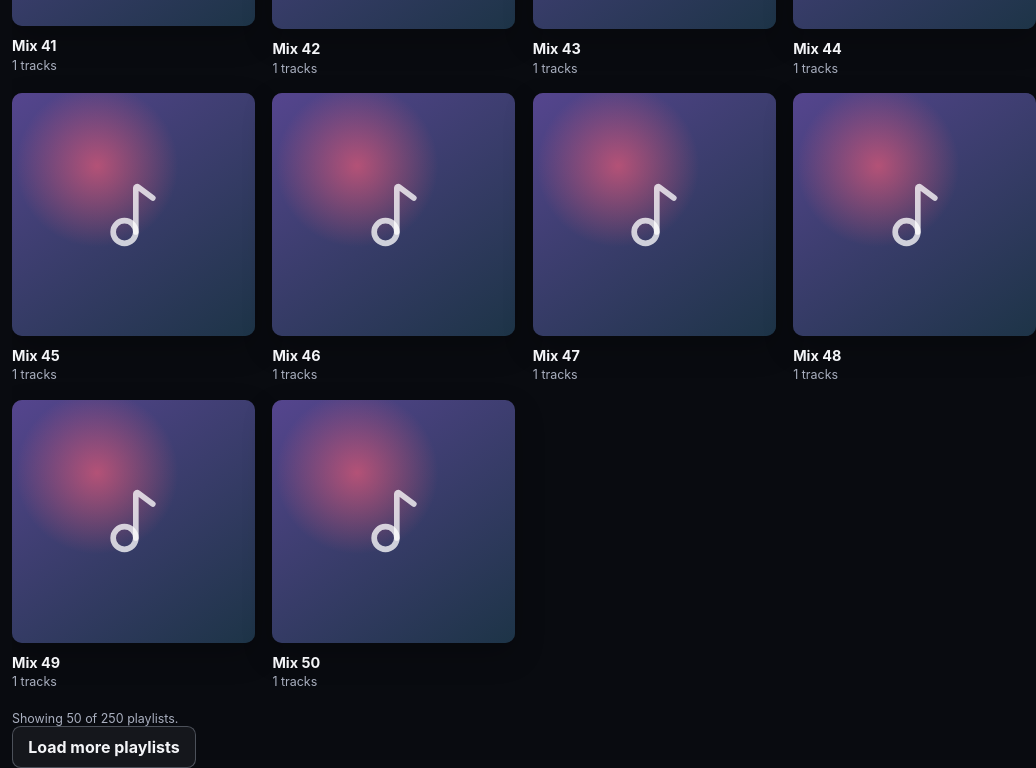
playlist components › loads additional playlist pages without rendering the whole collection
The width and height of the screenshot is (1036, 768).
(page scrolled)
Click the button "Load more playlists". click: (104, 747)
box: x1=12 y1=726 x2=196 y2=767
(page scrolled)
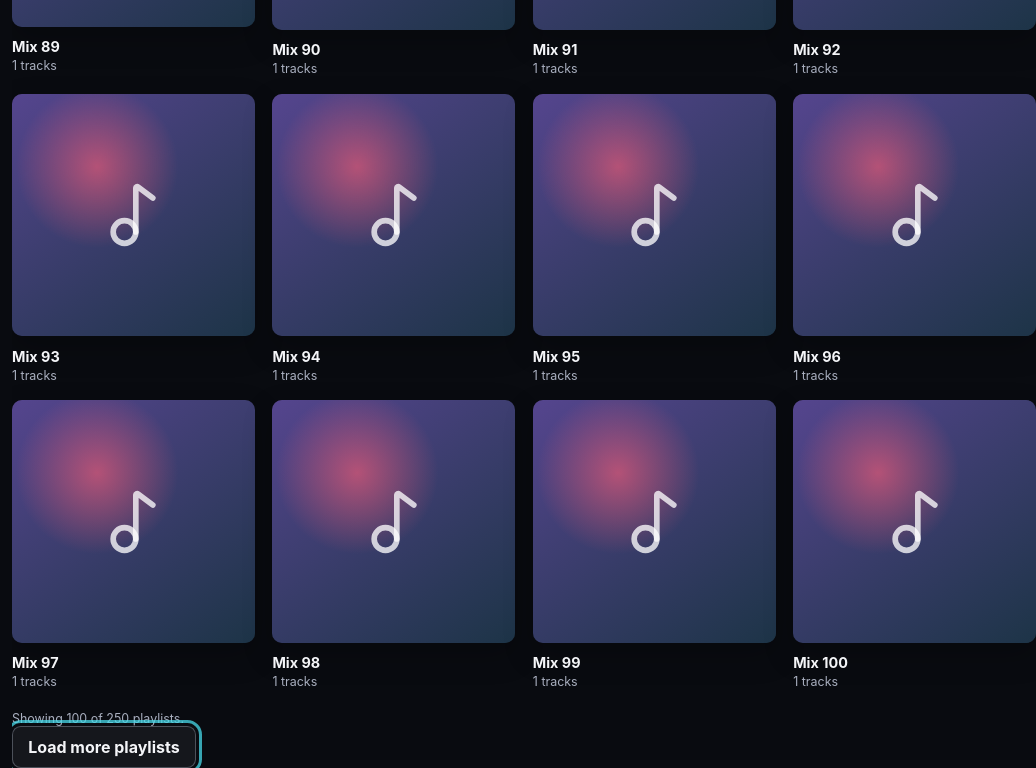
Expected: the text "Showing 100 of 250 playlists." is shown, x1=12 y1=711 x2=184 y2=726
